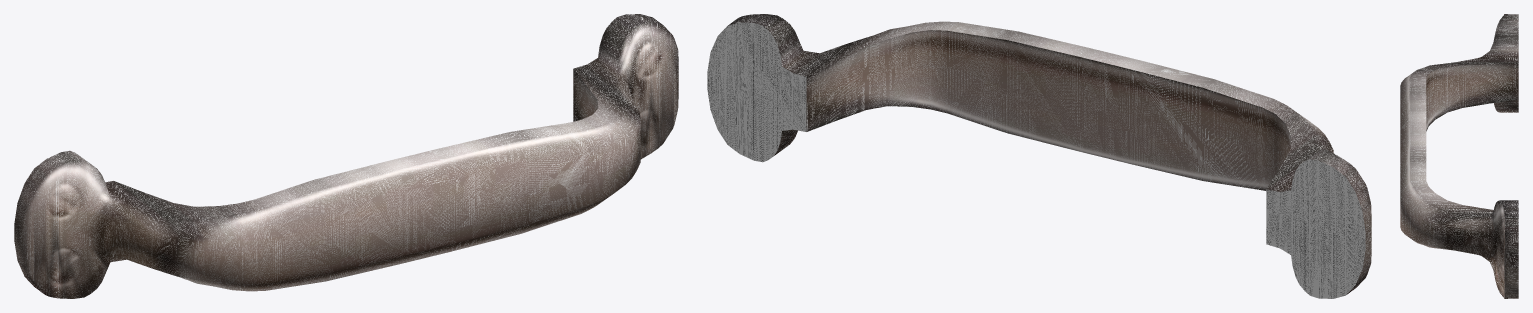
The model's file is original-43.obj.
3 views of the same model, side by side, from view 1: azimuth 30°, elevation 25°; view 2: azimuth 150°, elevation 25°; view 3: azimuth 270°, elevation 25° (orthographic). The views are drawn at different scales.
Parts seen in each view (by area): view 1: _7033_CC_3_1/_7033_CC_3/mesh31/mesh31-geometry#mesh31-geometry; view 2: _7033_CC_3_1/_7033_CC_3/mesh31/mesh31-geometry#mesh31-geometry; view 3: _7033_CC_3_1/_7033_CC_3/mesh31/mesh31-geometry#mesh31-geometry.
Part boxes in pixels (<box>): _7033_CC_3_1/_7033_CC_3/mesh31/mesh31-geometry#mesh31-geometry: <box>14,14,678,298</box>; _7033_CC_3_1/_7033_CC_3/mesh31/mesh31-geometry#mesh31-geometry: <box>707,14,1371,298</box>; _7033_CC_3_1/_7033_CC_3/mesh31/mesh31-geometry#mesh31-geometry: <box>1400,14,1518,298</box>.
Bounding box in the file's own units: 0.171 × 0.0342 × 0.0396.
Materials: 3 (1 with a texture image).
